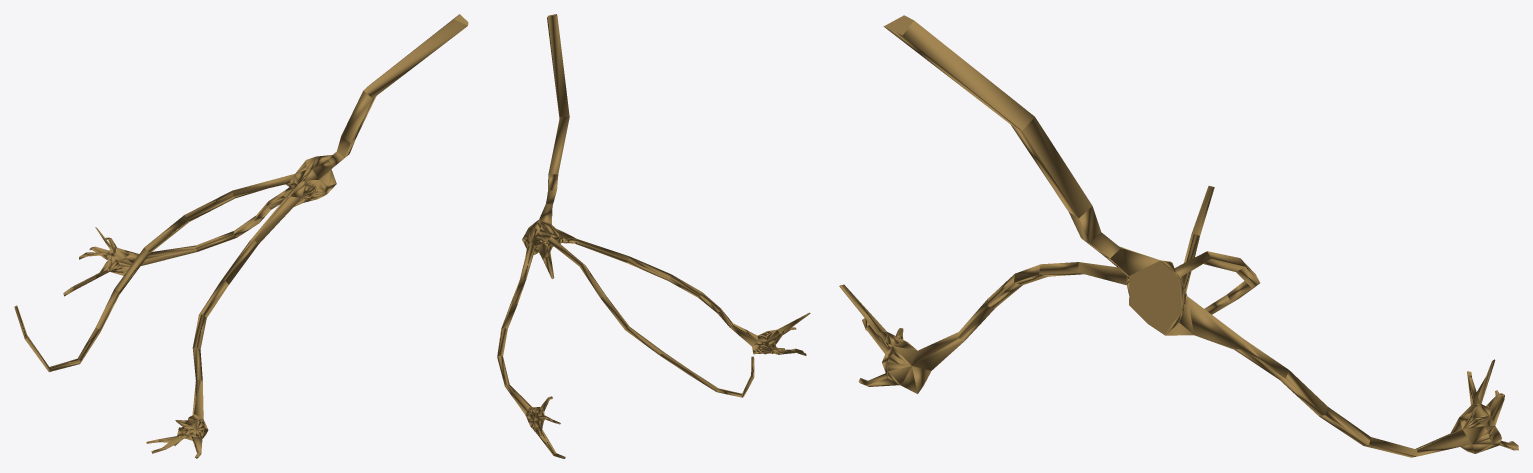
File: branch.fbx
The picture shows the model from 3 angles, left to right: view 1: azimuth 30°, elevation 25°; view 2: azimuth 150°, elevation 25°; view 3: azimuth 270°, elevation 25°; orthographic projection. The views are drawn at different scales.
Visible parts, largest first — view 1: branchmesh; view 2: branchmesh; view 3: branchmesh.
Boxes of the visible parts, x1,y1,x2,y2 form: branchmesh: (14, 14, 468, 458); branchmesh: (497, 14, 810, 458); branchmesh: (839, 15, 1518, 457).
Size of the model in its own units: 41 by 40.43 by 42.42.
